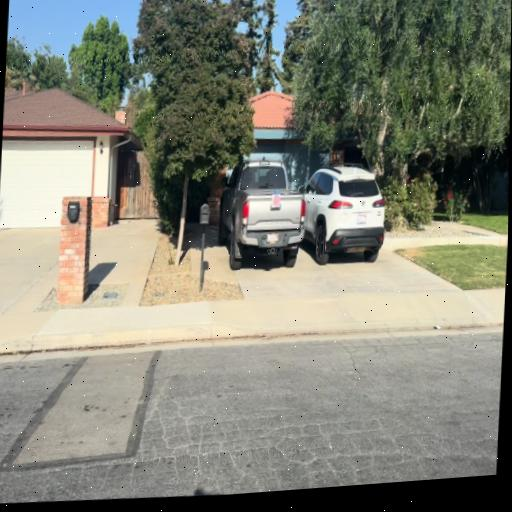bullseye: (272, 194, 280, 207)
